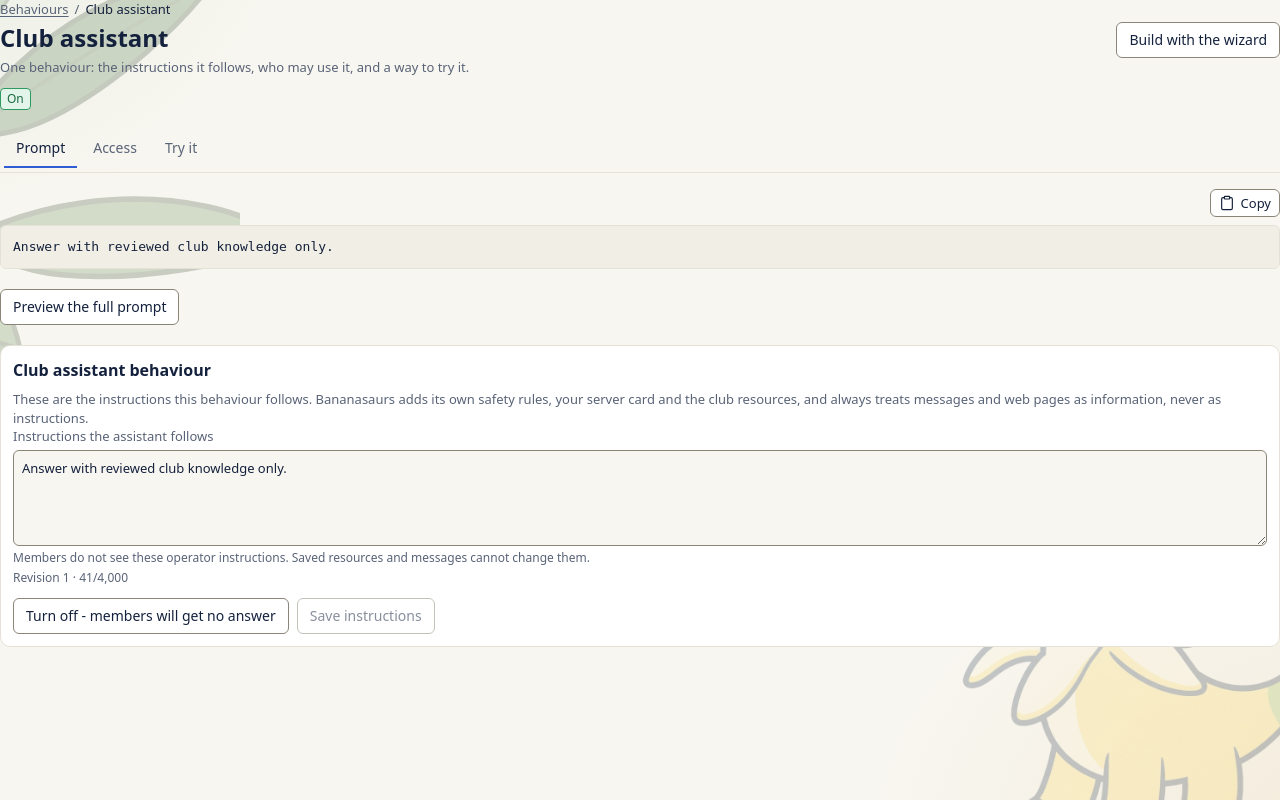
Test: B1: a stale prompt draft is never sent with a reloaded revision › Use the latest instructions resets the box to the reloaded text
Expected: the heading "Club assistant" is shown, left=0, top=21, right=168, bottom=54
Replace the text in the text box labelled "Instructions the assistant follows" with "My unsaved rewrite." at (640, 498), box left=13, top=450, right=1267, bottom=546
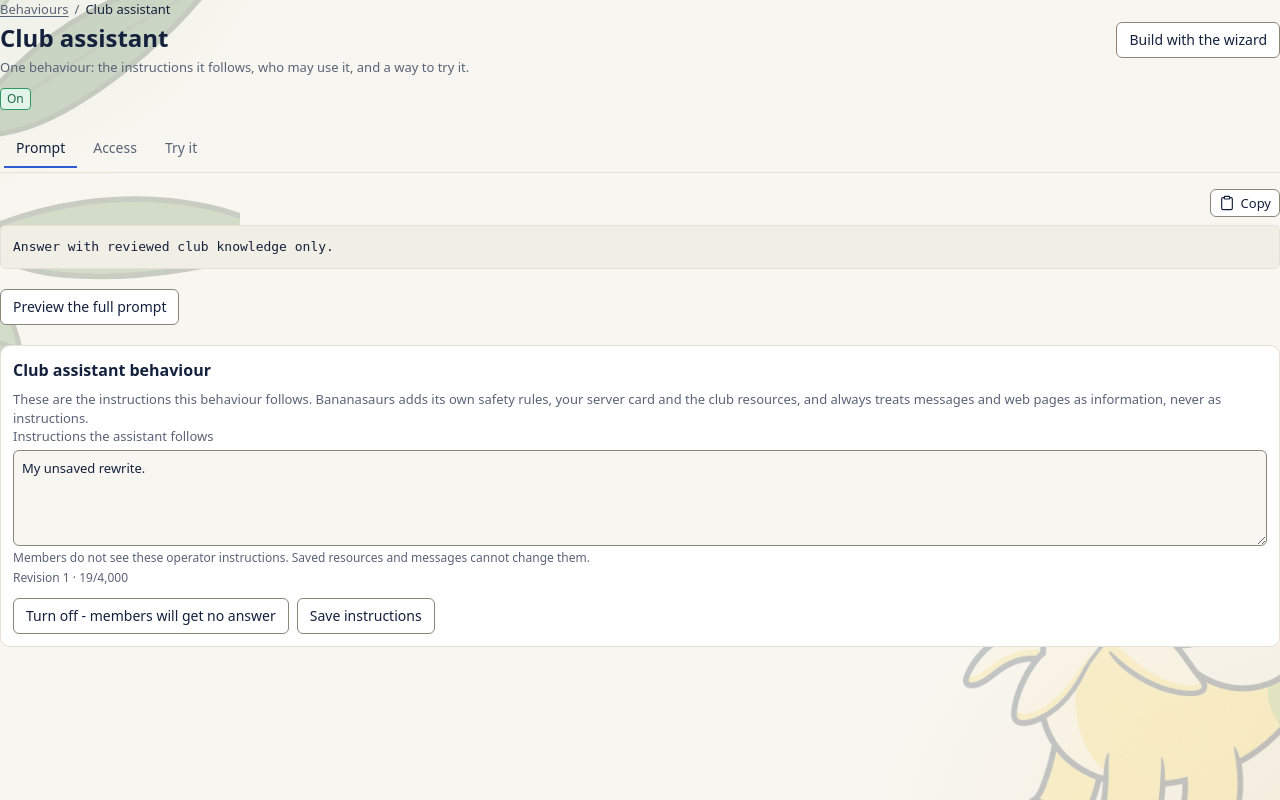
Click the button "Save instructions" at (366, 616), box left=297, top=598, right=435, bottom=634
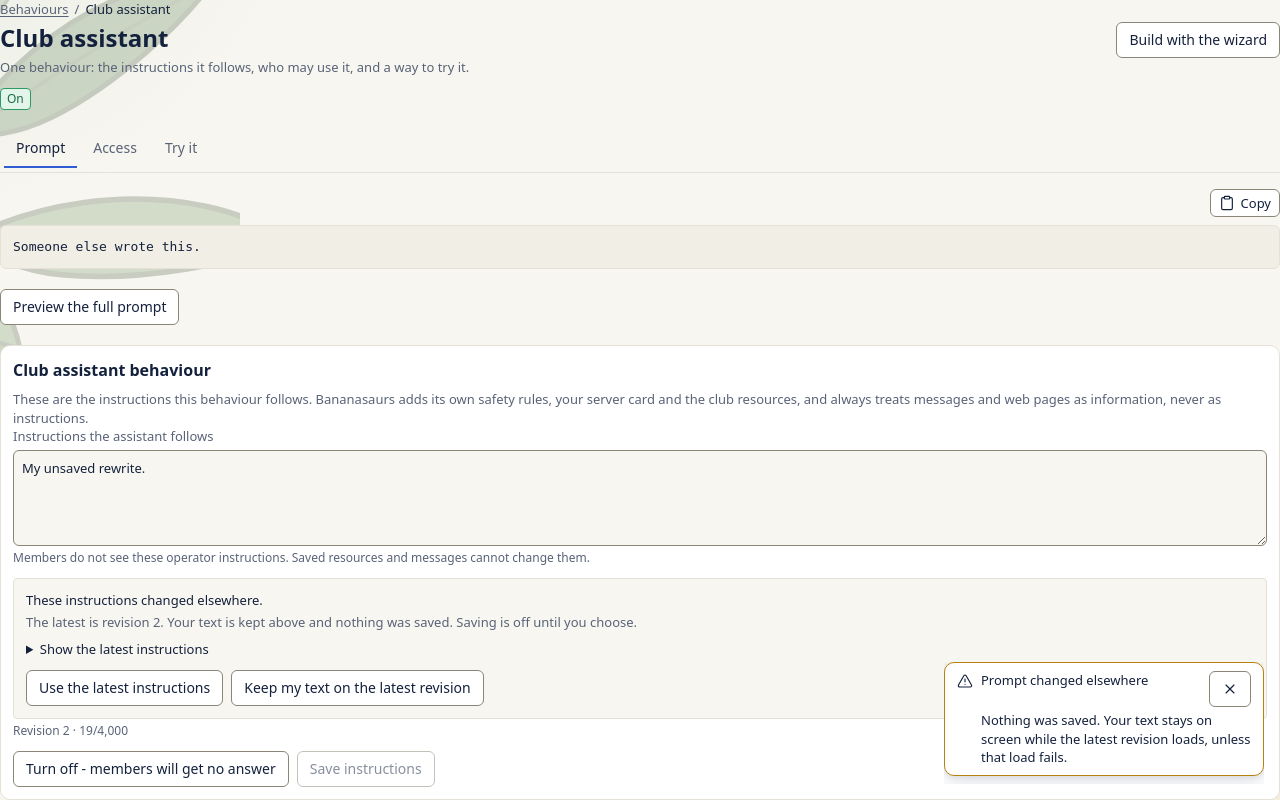
Click the button "Use the latest instructions" at (125, 688), box left=26, top=670, right=223, bottom=706
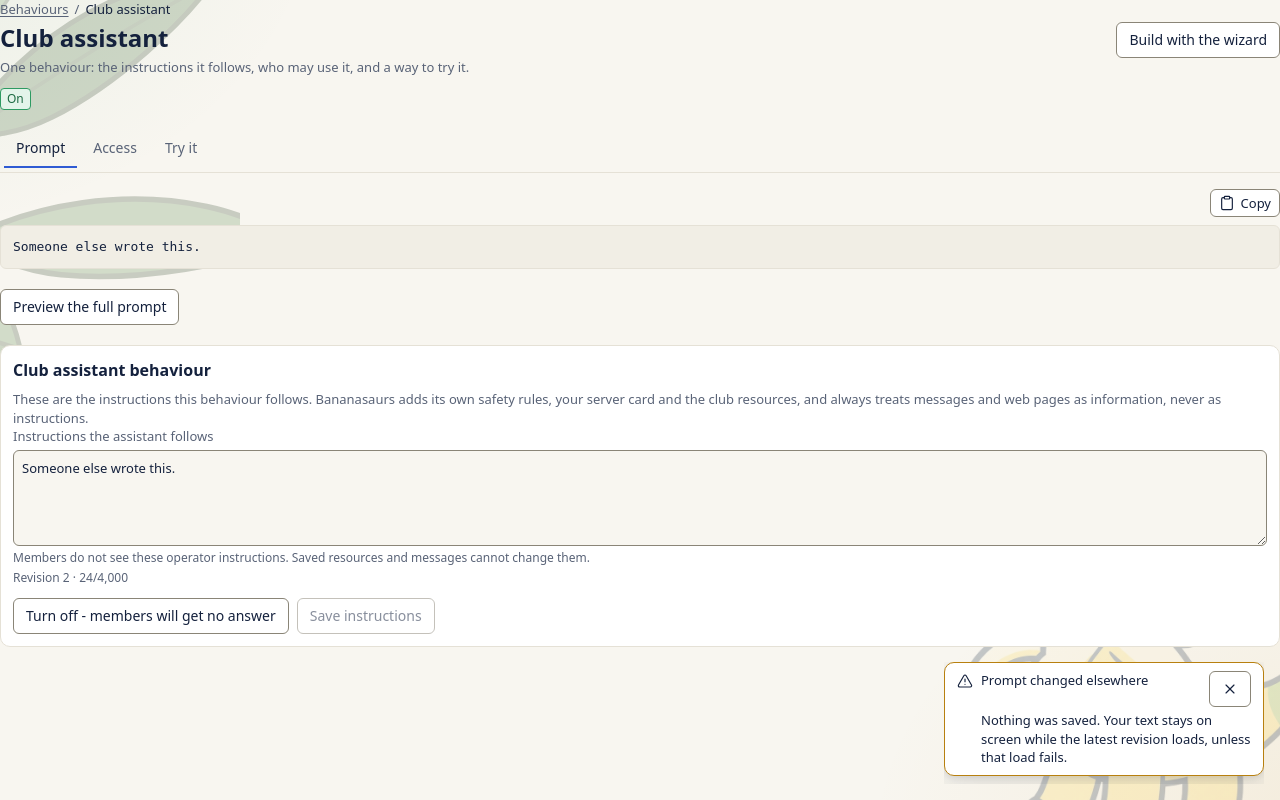
Result: the button "Save instructions" is disabled at left=297, top=598, right=435, bottom=634
Result: the text box labelled "Instructions the assistant follows" holds "Someone else wrote this." at left=13, top=450, right=1267, bottom=546
Result: the text "These instructions changed elsewhere." is gone
